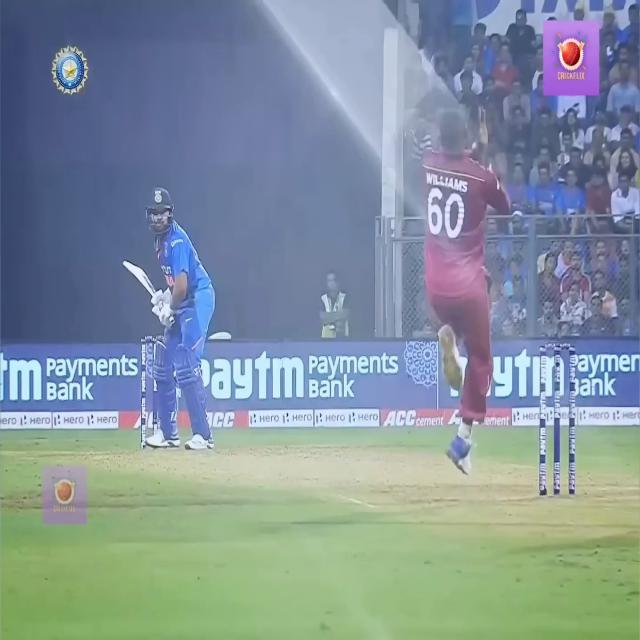partially_visible: (190, 348, 307, 414), (449, 354, 573, 406)
